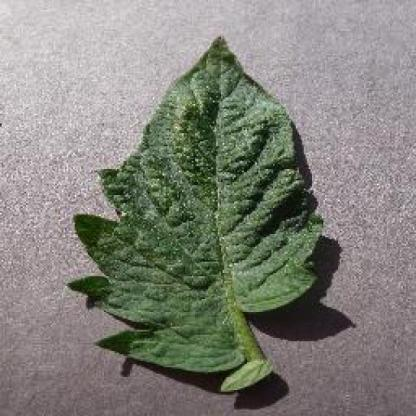Strawberry_Blossom_Blight: (206, 180, 252, 268), (118, 175, 182, 225), (158, 89, 210, 137), (221, 124, 265, 167), (280, 234, 317, 258)
